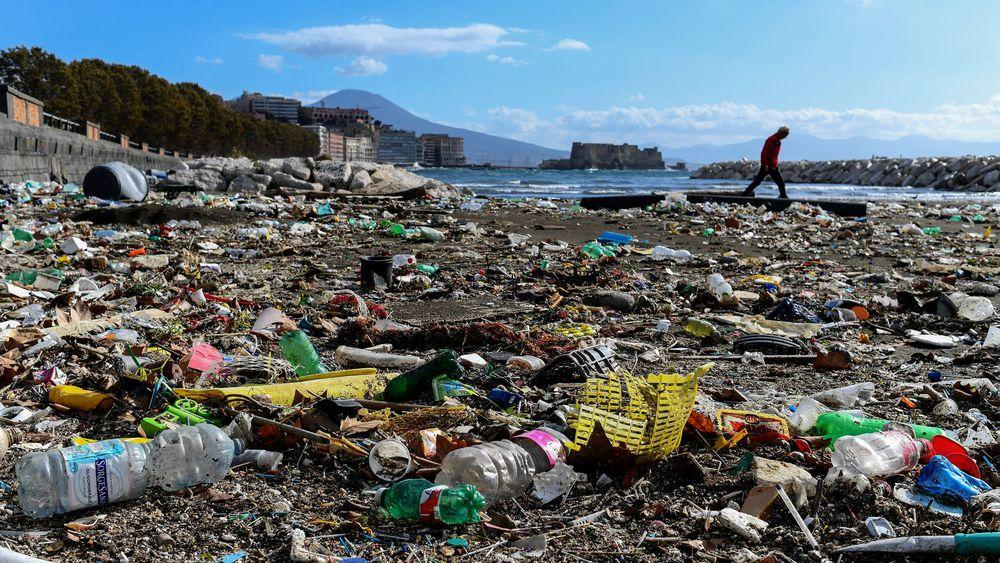Plastic: (13, 417, 266, 539), (809, 406, 941, 491), (369, 469, 497, 553), (262, 317, 356, 418)
